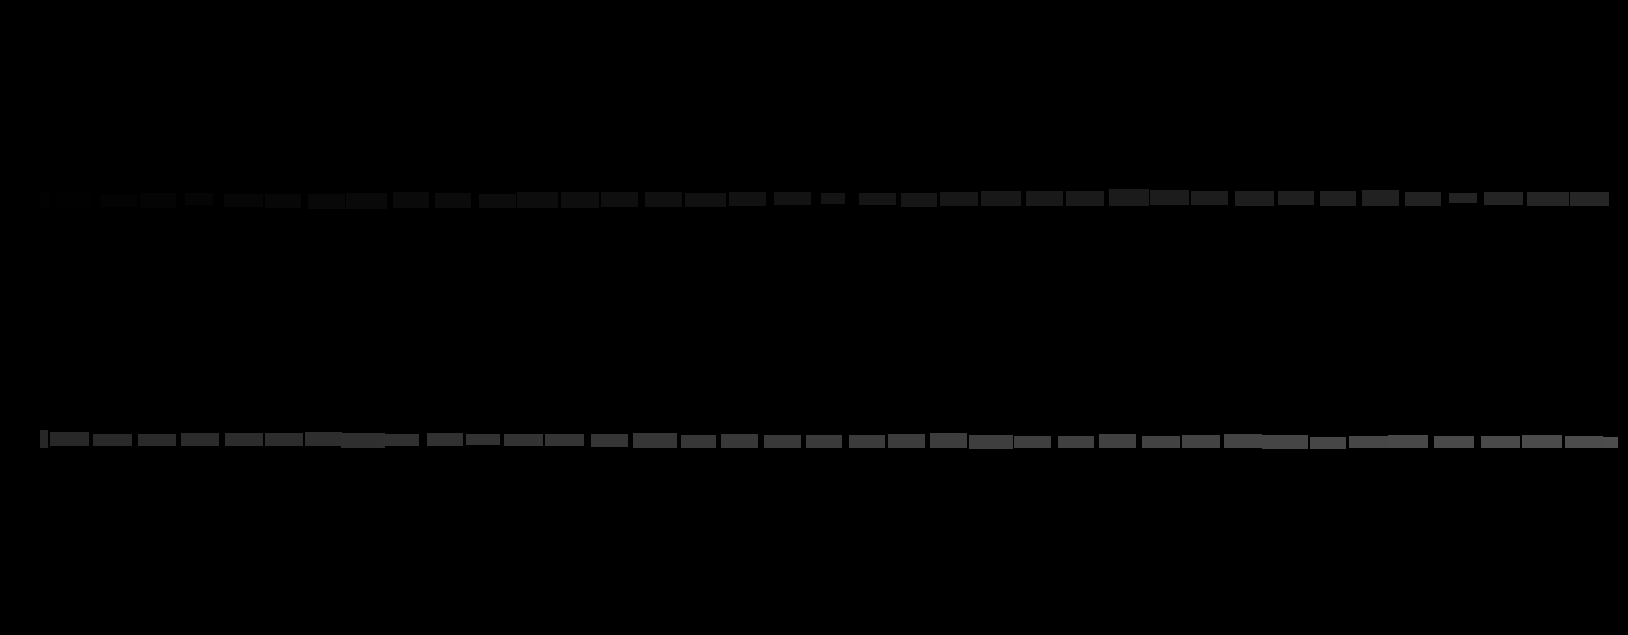light: (1109, 189, 1149, 206), (341, 433, 385, 448), (633, 433, 677, 448), (1261, 435, 1308, 449), (969, 435, 1013, 449), (346, 193, 387, 209), (517, 192, 558, 208), (981, 191, 1021, 206), (1234, 191, 1274, 206), (1362, 190, 1399, 206), (1527, 192, 1569, 206), (561, 192, 599, 208), (1150, 190, 1189, 205), (685, 193, 726, 208), (55, 192, 92, 208), (645, 192, 682, 208), (1026, 191, 1063, 206), (1066, 191, 1104, 206), (1570, 192, 1609, 206), (50, 432, 89, 446), (601, 192, 637, 208), (1320, 191, 1356, 206), (930, 433, 967, 448), (940, 192, 978, 206), (394, 192, 429, 208), (729, 192, 766, 206), (1191, 191, 1228, 205), (721, 434, 758, 448), (888, 434, 925, 448), (1098, 434, 1136, 448), (1224, 434, 1261, 448), (1484, 192, 1523, 205), (1388, 435, 1428, 448), (1522, 435, 1562, 448), (140, 193, 177, 208), (308, 194, 345, 209), (435, 193, 471, 208), (1278, 191, 1314, 205), (1405, 192, 1441, 206), (305, 432, 342, 446), (224, 194, 263, 208), (181, 433, 219, 446), (265, 433, 303, 446), (1182, 435, 1220, 448), (901, 193, 937, 208), (100, 194, 137, 208), (479, 194, 516, 208), (774, 192, 811, 205), (225, 433, 263, 446), (591, 434, 628, 447), (1434, 436, 1474, 448), (504, 434, 543, 446), (1349, 436, 1388, 448), (1481, 436, 1520, 448), (265, 194, 301, 208), (427, 433, 463, 446), (764, 435, 801, 448), (806, 435, 842, 448), (93, 434, 132, 446), (138, 434, 177, 446), (545, 434, 584, 446), (1142, 436, 1181, 448), (1565, 436, 1603, 448), (681, 435, 716, 448), (849, 435, 885, 448), (859, 193, 896, 205), (382, 434, 419, 446), (1014, 436, 1051, 448), (1058, 436, 1094, 448), (1310, 437, 1346, 449), (466, 434, 500, 445), (185, 193, 213, 205), (1449, 193, 1477, 203), (821, 193, 845, 204), (1603, 437, 1618, 448), (40, 192, 50, 208), (40, 430, 48, 448)
